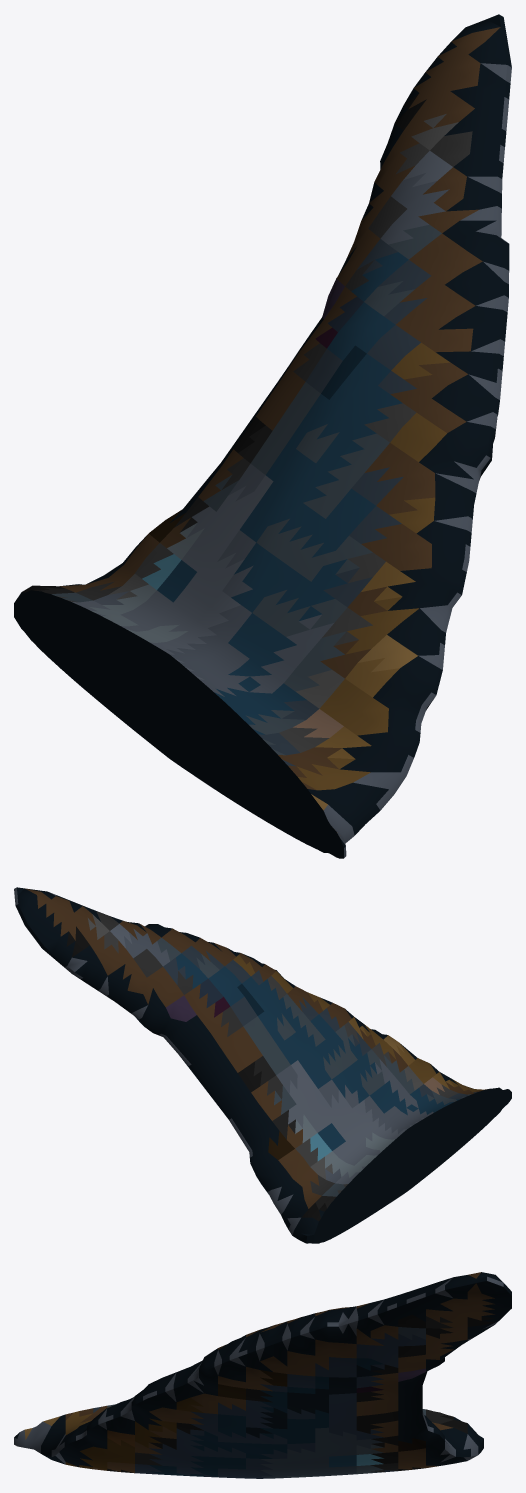
The model's file is coral_manta_wing_167.glb.
The picture shows the model from 3 angles, top to bottom: view 1: azimuth 30°, elevation 25°; view 2: azimuth 150°, elevation 25°; view 3: azimuth 270°, elevation 25°; orthographic projection. The views are drawn at different scales.
Parts seen in each view (by area): view 1: coral_manta_wing_167_body; view 2: coral_manta_wing_167_body; view 3: coral_manta_wing_167_body.
Boxes of the visible parts, x1,y1,x2,y2 form: coral_manta_wing_167_body: (14,14,511,858); coral_manta_wing_167_body: (14,887,511,1243); coral_manta_wing_167_body: (14,1272,511,1478).
Size of the model in its own units: 18.01 by 17.59 by 22.27.
